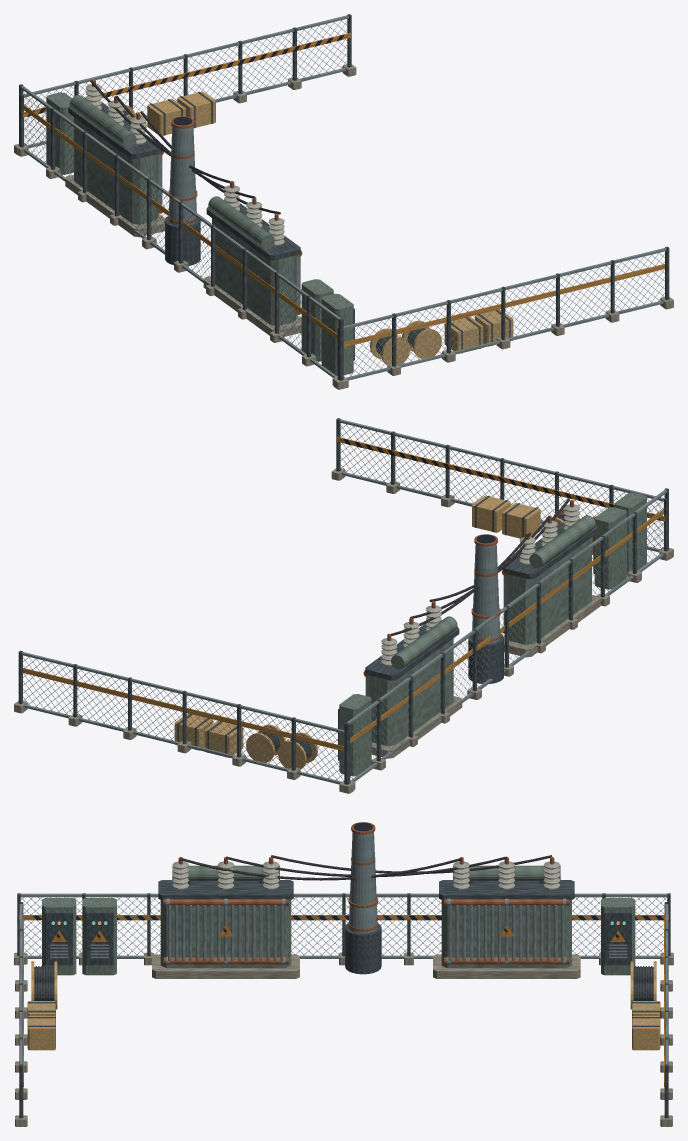
Rendered from ap_foso_lagarto.glb.
3 renders of one model, top to bottom at view 1: azimuth 30°, elevation 25°; view 2: azimuth 150°, elevation 25°; view 3: azimuth 270°, elevation 25°, orthographic.
Visible parts, largest first — view 1: ap_foso_lagarto; view 2: ap_foso_lagarto; view 3: ap_foso_lagarto.
Part boxes in pixels (x1,y1,x2,y2): ap_foso_lagarto: [14, 14, 673, 389]; ap_foso_lagarto: [14, 418, 673, 793]; ap_foso_lagarto: [14, 822, 673, 1126].
Bounding box in the file's own units: 11.88 × 4.7 × 19.86.
2 materials, 2 textured.
